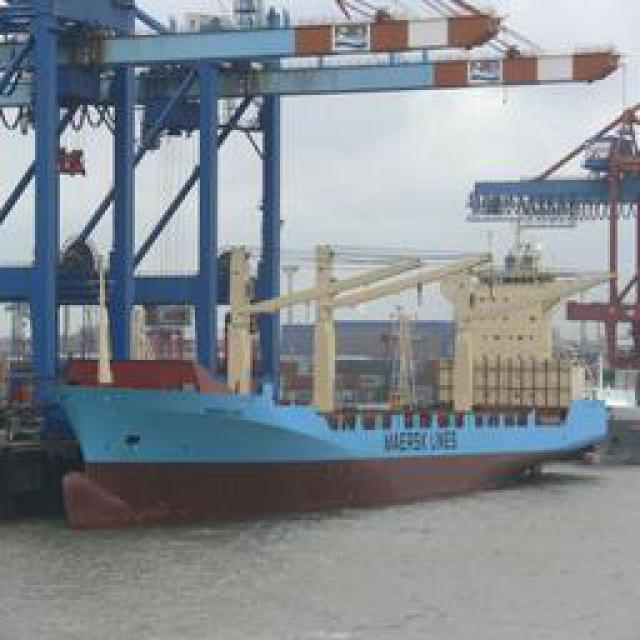Ship: (63, 385, 608, 508)
